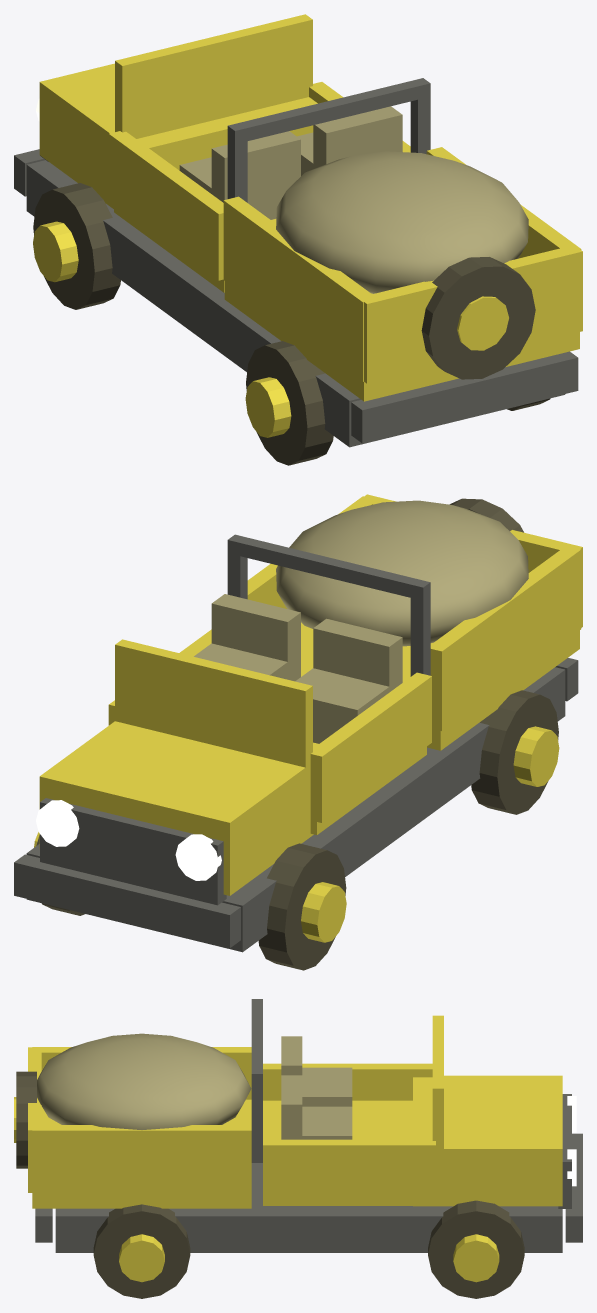
The model's file is jeep-tan.gltf.
3 views of the same model, one above another, from view 1: azimuth 30°, elevation 25°; view 2: azimuth 150°, elevation 25°; view 3: azimuth 270°, elevation 25° (orthographic). The views are drawn at different scales.
Visible parts, largest first — view 1: Lona, ParabrisasMarco, Chasis, CajaLateral_Izq, Capo, CajaTrasera, CabinaLateral_Izq, ParachoquesTras, Repuesto, Rueda_Del_Izq, Rueda_Tras_Izq, CajaSuelo (+12 smaller); view 2: Capo, Lona, ParabrisasMarco, CajaLateral_Izq, Chasis, CabinaLateral_Izq, ParachoquesDel, Parrilla, Rueda_Del_Izq, Rueda_Tras_Izq, Respaldo_Der, Respaldo_Izq (+15 smaller); view 3: Capo, Lona, Chasis, CajaLateral_Der, CabinaLateral_Der, Rueda_Del_Der, Rueda_Tras_Der, CabinaSuelo, CajaSuelo, CabinaLateral_Izq, Asiento_Izq, Buje_Del_Der (+13 smaller).
Boxes of the visible parts, left/top/right/bottom form: Lona: left=276, top=151, right=528, bottom=293; ParabrisasMarco: left=115, top=14, right=312, bottom=138; Chasis: left=26, top=160, right=565, bottom=447; CajaLateral_Izq: left=223, top=196, right=377, bottom=381; Capo: left=39, top=63, right=317, bottom=208; CajaTrasera: left=364, top=245, right=582, bottom=383; CabinaLateral_Izq: left=108, top=131, right=223, bottom=280; ParachoquesTras: left=351, top=351, right=578, bottom=443; Repuesto: left=421, top=257, right=535, bottom=379; Rueda_Del_Izq: left=33, top=183, right=120, bottom=309; Rueda_Tras_Izq: left=246, top=341, right=333, bottom=465; CajaSuelo: left=224, top=281, right=579, bottom=401; Capo: left=39, top=721, right=313, bottom=895; Lona: left=276, top=500, right=528, bottom=646; ParabrisasMarco: left=115, top=639, right=312, bottom=783; CajaLateral_Izq: left=430, top=546, right=581, bottom=730; Chasis: left=26, top=667, right=565, bottom=952; CabinaLateral_Izq: left=310, top=672, right=431, bottom=822; ParachoquesDel: left=14, top=854, right=240, bottom=948; Parrilla: left=40, top=798, right=226, bottom=905; Rueda_Del_Izq: left=258, top=843, right=346, bottom=970; Rueda_Tras_Izq: left=471, top=690, right=558, bottom=814; Respaldo_Der: left=211, top=594, right=300, bottom=681; Respaldo_Izq: left=313, top=618, right=402, bottom=691; Capo: left=413, top=1075, right=562, bottom=1206; Lona: left=37, top=1033, right=251, bottom=1129; Chasis: left=55, top=1163, right=562, bottom=1252; CajaLateral_Der: left=32, top=1125, right=251, bottom=1193; CabinaLateral_Der: left=263, top=1139, right=435, bottom=1197; Rueda_Del_Der: left=428, top=1200, right=524, bottom=1298; Rueda_Tras_Der: left=93, top=1204, right=190, bottom=1298; CabinaSuelo: left=263, top=1100, right=435, bottom=1205; CajaSuelo: left=32, top=1099, right=251, bottom=1208; CabinaLateral_Izq: left=263, top=1063, right=432, bottom=1100; Asiento_Izq: left=302, top=1067, right=352, bottom=1106; Buje_Del_Der: left=453, top=1234, right=499, bottom=1282.
Bounding box in the file's own units: 2.24 × 2.05 × 4.94.
